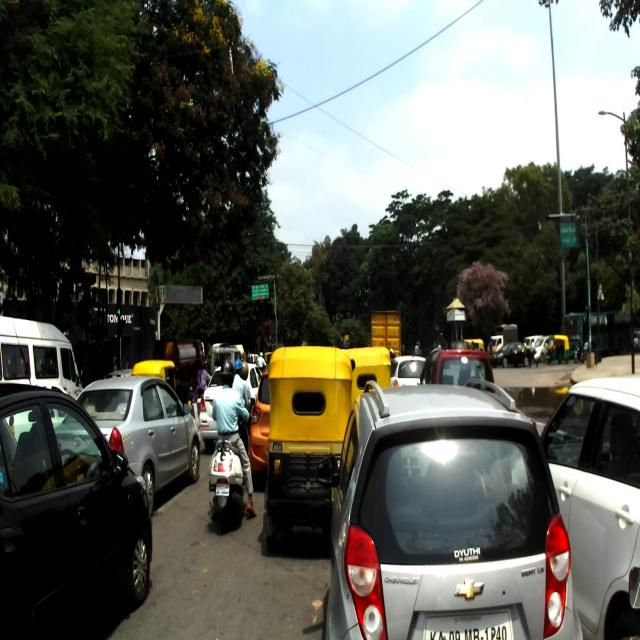autorickshaw: (264, 346, 356, 551), (344, 346, 390, 407), (545, 334, 571, 365), (263, 352, 272, 368)
car: (314, 376, 584, 639), (0, 382, 152, 639), (536, 366, 640, 628), (70, 375, 201, 514), (198, 363, 263, 451), (416, 348, 497, 395)
mini-bus: (1, 316, 84, 408)
scooter: (207, 411, 251, 528)
